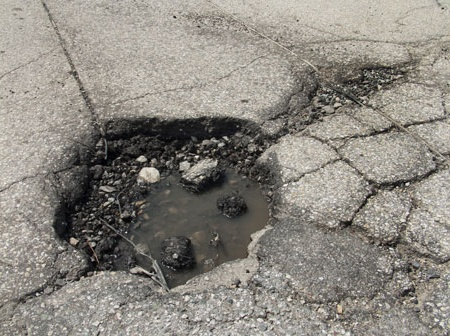pothole: (50, 104, 265, 289), (282, 61, 391, 125)
